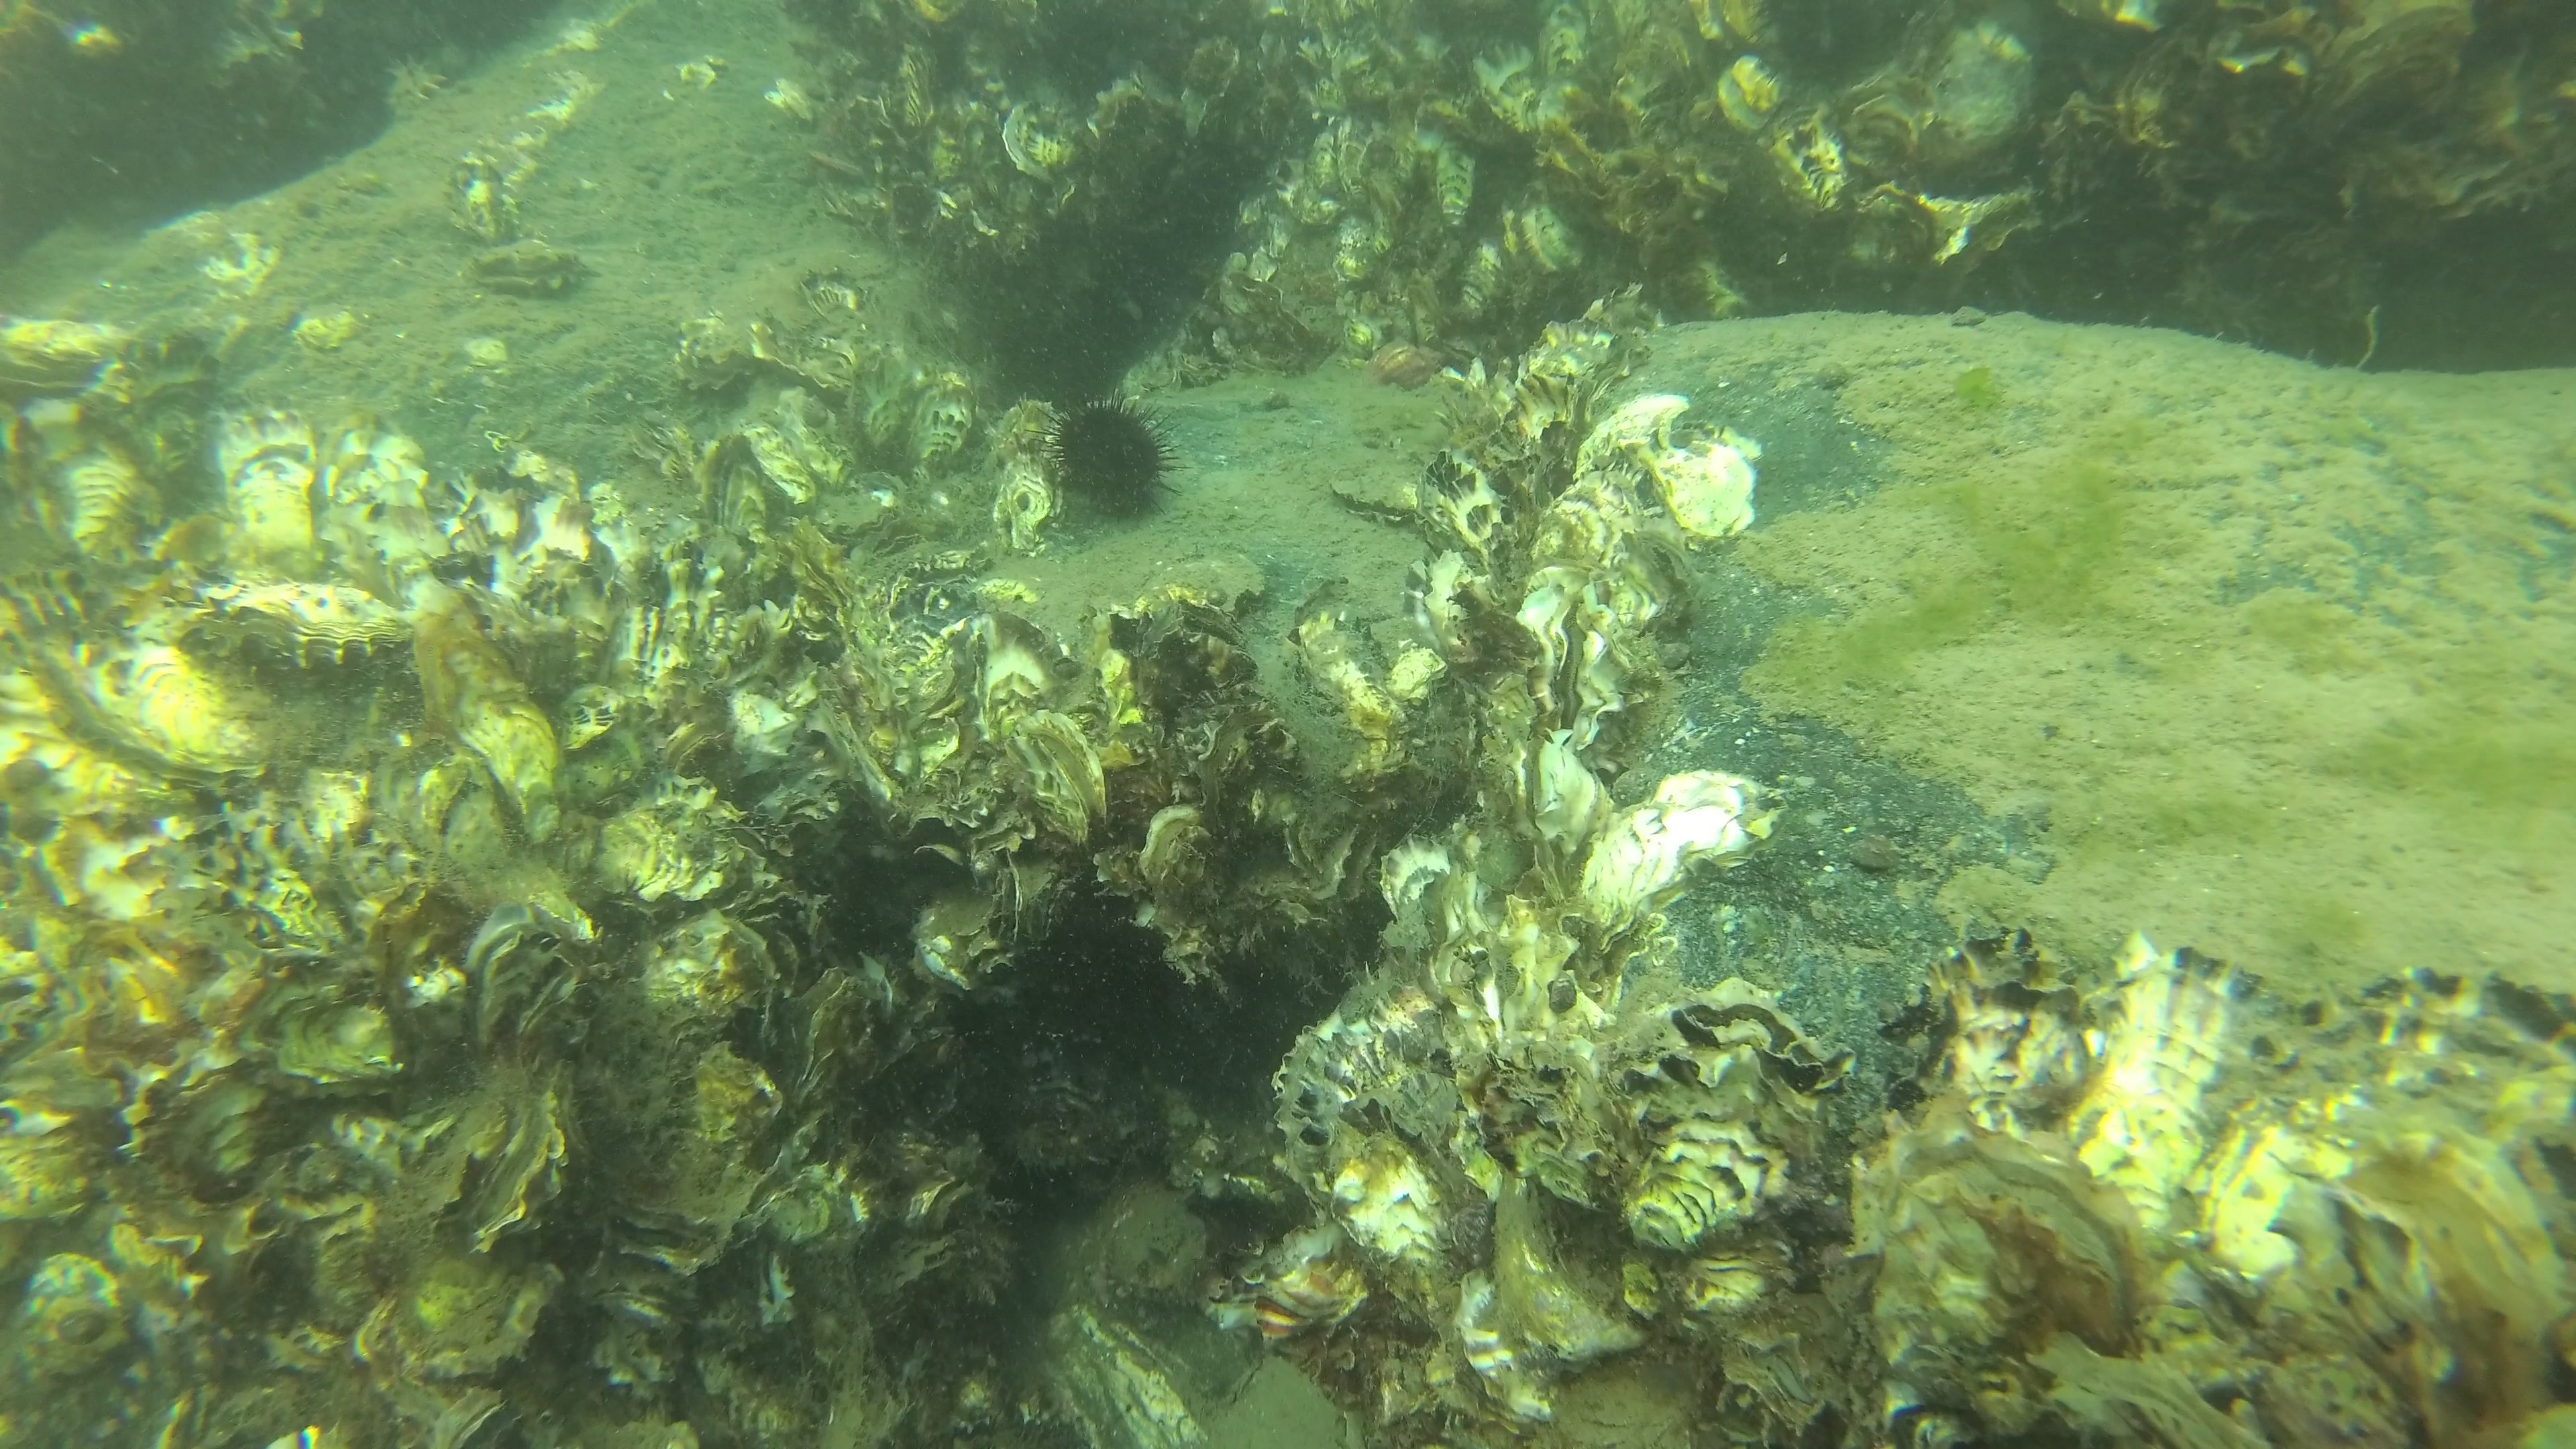echinus: (1046, 398, 1182, 522), (1752, 5, 1888, 108)
